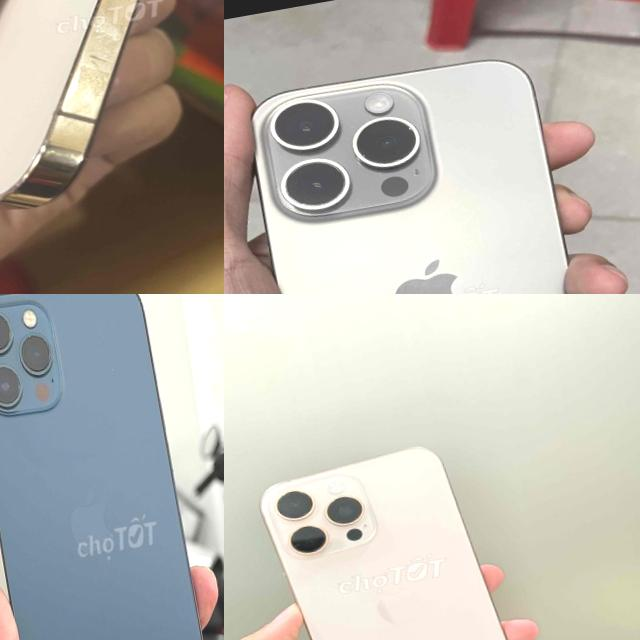gen_12_13: (0, 294, 224, 640), (0, 0, 224, 235)
gen_15: (235, 38, 630, 294)
gen_16: (260, 448, 506, 640)
scratch: (258, 75, 440, 226)
